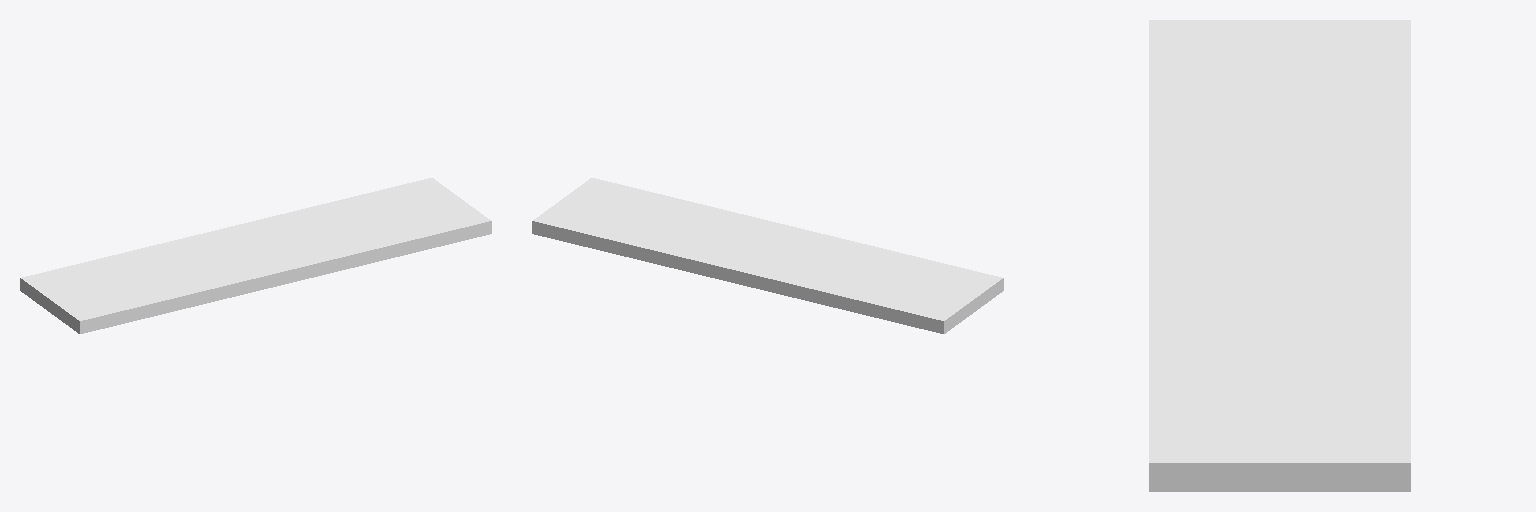
The robot description file, URDF, robot "box":
<?xml version="1.0" ?>
<robot name="box">
  <link name="baseLink">
    <contact>
      <lateral_friction value="1.0"/>
      <rolling_friction value="0.0"/>
      <contact_cfm value="0.0"/>
      <contact_erp value="1.0"/>
    </contact>
    <inertial>
      <origin rpy="0 0 0" xyz="0 0 0"/>
       <mass value="0"/>
       <inertia ixx="1" ixy="0" ixz="0" iyy="1" iyz="0" izz="1"/>
    </inertial>
    <visual>
      <origin rpy="0 0 0" xyz="0 0 0"/>
      <geometry>
		    <mesh filename="conveyor.obj" scale="1 1 1"/>
      </geometry>
      <material name="white">
        <color rgba="1 1 1 1"/>
      </material>
    </visual>
    <collision>
      <origin rpy="0 0 0" xyz="0 0 0"/>
      <geometry>
	      <mesh filename="conveyor.obj" scale="1 1 1"/>
      </geometry>
    </collision>
  </link>
</robot>

--- Facts derived from the render (not from the file) ---
3 views of the same robot in one strip: view 1: azimuth 30°, elevation 25°; view 2: azimuth 150°, elevation 25°; view 3: azimuth 270°, elevation 25° (orthographic).
Model box with 1 links and 0 joints (none), rooted at baseLink, posed all joints at 0.
Links seen in each view (by area): view 1: baseLink; view 2: baseLink; view 3: baseLink.
Boxes of the visible links, x1=… form: baseLink: x1=20, y1=178, x2=491, y2=333; baseLink: x1=532, y1=178, x2=1003, y2=333; baseLink: x1=1149, y1=20, x2=1410, y2=491.
Size in the robot's own frame: 2 by 0.4994 by 0.061 metres.
Meshes: 1 distinct files referenced, 1 mesh visuals loaded (1 OBJ).
